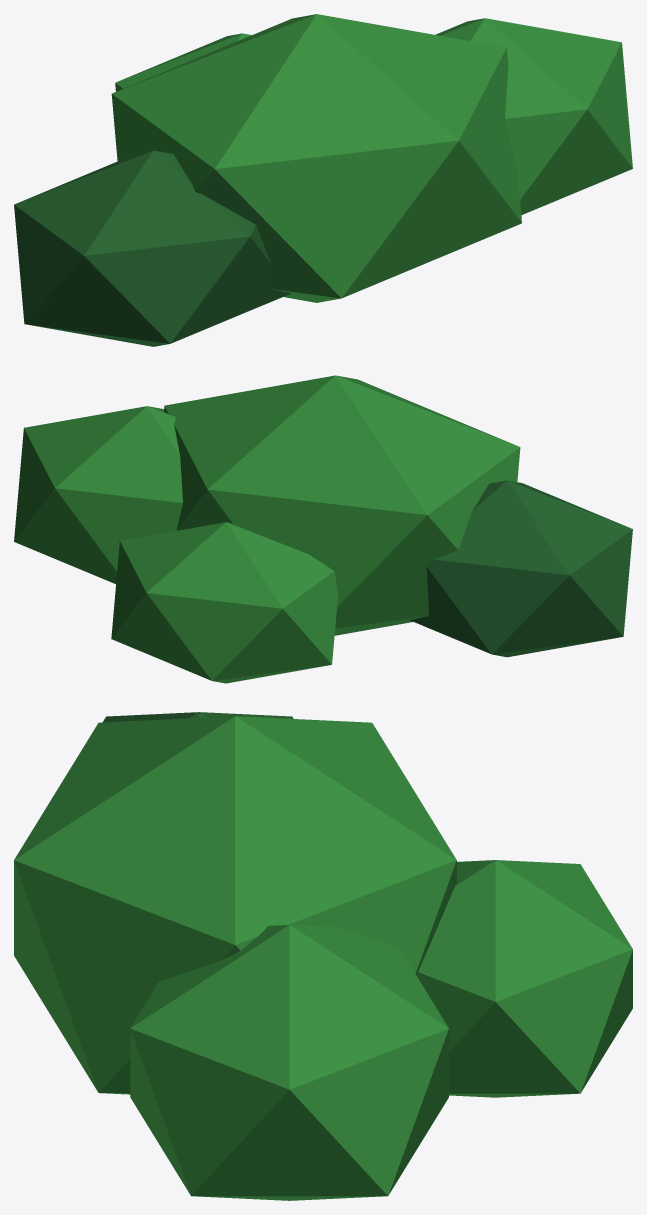
The model's file is SM_JungleBush_A.glb.
3 renders of one model, top to bottom at view 1: azimuth 30°, elevation 25°; view 2: azimuth 150°, elevation 25°; view 3: azimuth 270°, elevation 25°, orthographic. The views are drawn at different scales.
Visible parts, largest first — view 1: SM_JungleBush_A; view 2: SM_JungleBush_A; view 3: SM_JungleBush_A.
Boxes of the visible parts, x1,y1,x2,y2 form: SM_JungleBush_A: (14, 14, 632, 346); SM_JungleBush_A: (14, 375, 632, 683); SM_JungleBush_A: (14, 712, 632, 1200).
Bounding box in the file's own units: 2.68 × 1.17 × 1.71.
